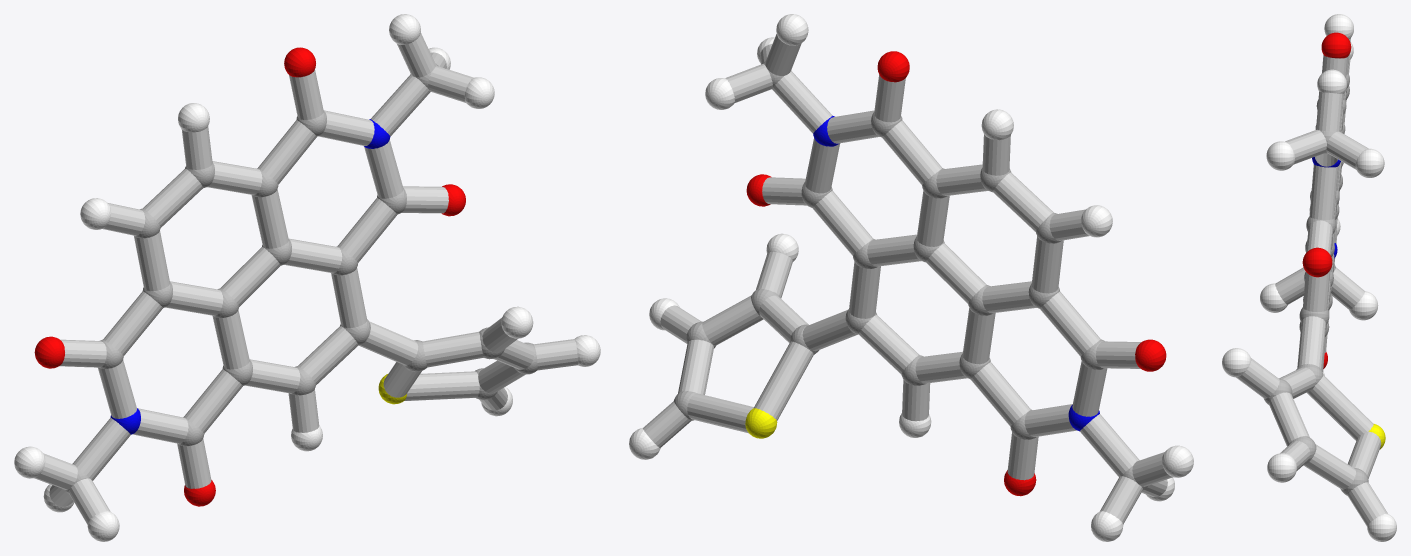
Rendered from Dimethyl_Naphthalene_Dicarboximide_Phi_15_Theta_50_Thiophene.glb.
3 renders of one model, left to right at view 1: azimuth 30°, elevation 25°; view 2: azimuth 150°, elevation 25°; view 3: azimuth 270°, elevation 25°, orthographic. The views are drawn at different scales.
Parts seen in each view (by area): view 1: grp14119, grp7241, grp1, grp12309, grp11585; view 2: grp14119, grp7241, grp1, grp12309, grp13757, grp11585; view 3: grp14119, grp7241, grp1, grp12309.
Boxes of the visible parts, left/top/right/bottom form: grp14119: left=34, top=32, right=578, bottom=524; grp7241: left=14, top=14, right=600, bottom=541; grp1: left=64, top=63, right=537, bottom=493; grp12309: left=34, top=47, right=465, bottom=506; grp11585: left=110, top=119, right=390, bottom=434; grp14119: left=643, top=34, right=1172, bottom=524; grp7241: left=629, top=14, right=1193, bottom=541; grp1: left=673, top=61, right=1147, bottom=489; grp12309: left=746, top=51, right=1166, bottom=496; grp13757: left=745, top=408, right=777, bottom=438; grp11585: left=813, top=115, right=1099, bottom=431; grp14119: left=1236, top=38, right=1387, bottom=526; grp7241: left=1222, top=14, right=1396, bottom=541; grp1: left=1263, top=73, right=1368, bottom=495; grp12309: left=1302, top=32, right=1351, bottom=368.
Size of the model in its own units: 12.07 by 9.25 by 3.53.
